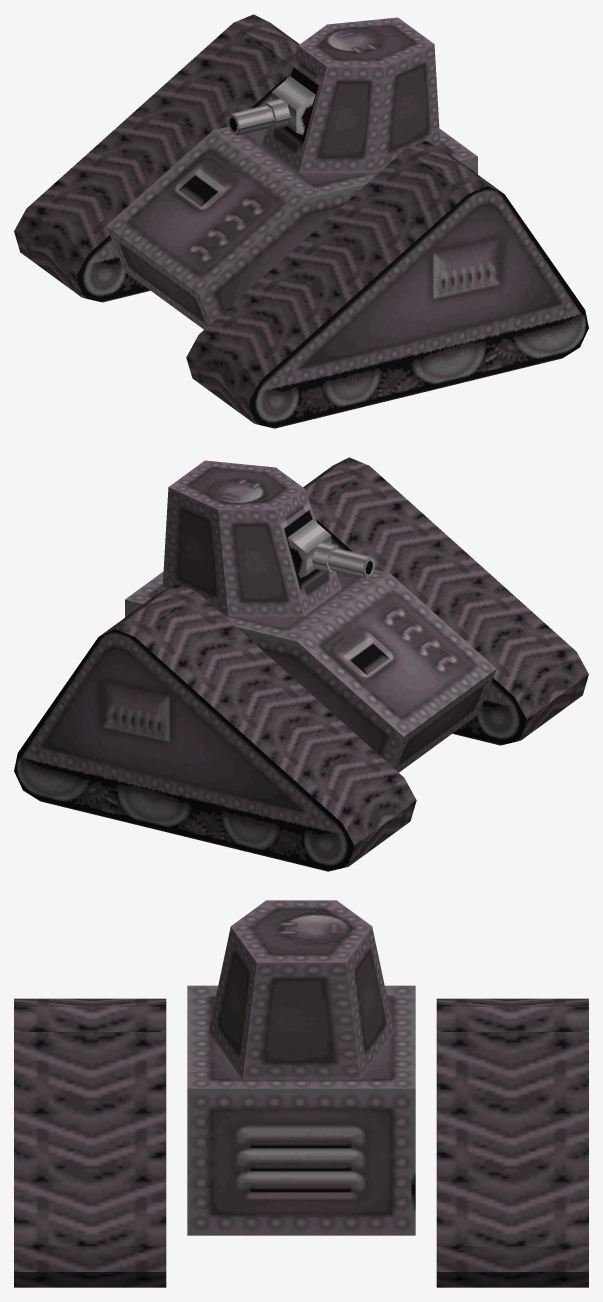
File: Tank A - Textured.glb
3 renders of one model, top to bottom at view 1: azimuth 30°, elevation 25°; view 2: azimuth 150°, elevation 25°; view 3: azimuth 270°, elevation 25°, orthographic. The views are drawn at different scales.
Visible parts, largest first — view 1: instance_0.003, instance_3, instance_0.004, instance_0.001, instance_2, instance_1, instance_0.002; view 2: instance_0.002, instance_3, instance_0.001, instance_0.004, instance_2, instance_1, instance_0.003; view 3: instance_0.001, instance_0.004, instance_3, instance_2.
Boxes of the visible parts, <box> form: instance_0.003: <box>248,186,588,428</box>; instance_3: <box>106,126,477,329</box>; instance_0.004: <box>186,140,503,423</box>; instance_0.001: <box>14,14,299,297</box>; instance_2: <box>261,17,440,173</box>; instance_1: <box>228,76,315,135</box>; instance_0.002: <box>76,76,286,302</box>; instance_0.002: <box>14,629,354,871</box>; instance_3: <box>125,569,496,772</box>; instance_0.001: <box>99,583,416,866</box>; instance_0.004: <box>303,457,588,740</box>; instance_2: <box>162,460,341,616</box>; instance_1: <box>287,519,374,578</box>; instance_0.003: <box>316,519,526,745</box>; instance_0.001: <box>436,998,588,1287</box>; instance_0.004: <box>14,998,166,1287</box>; instance_3: <box>187,985,415,1235</box>; instance_2: <box>208,900,394,1079</box>.
Bounding box in the file's own units: 3.17 × 2.22 × 3.78.
Materials: 5 (5 with a texture image).
